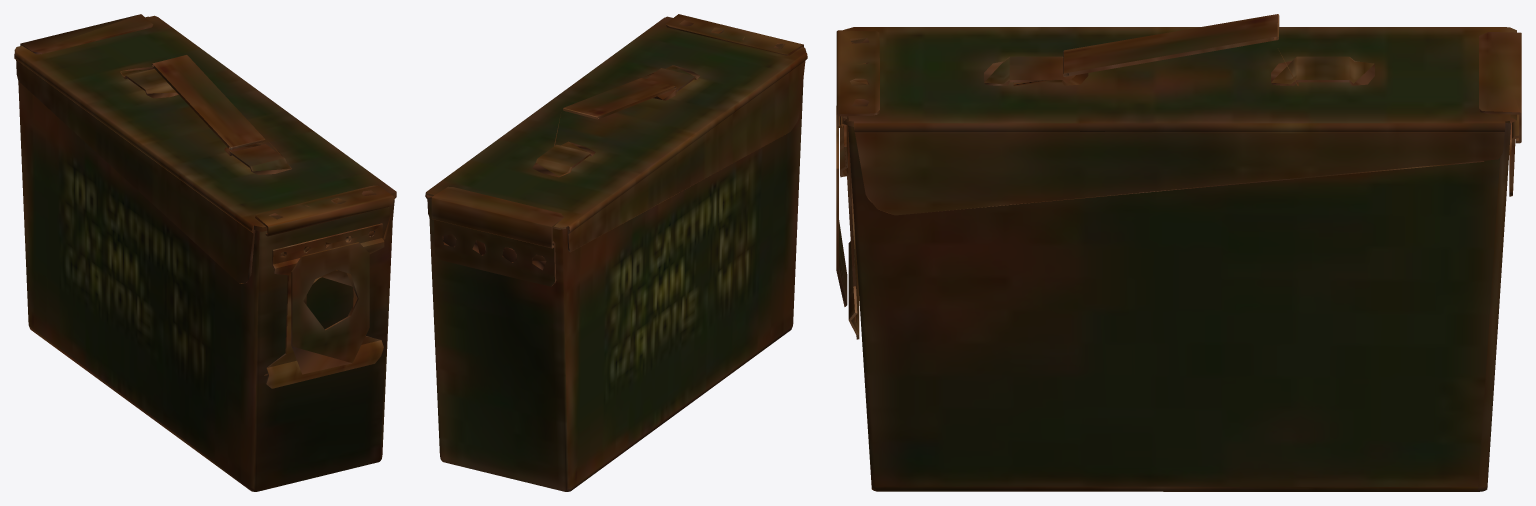
The model's file is munitions.glb.
The picture shows the model from 3 angles, left to right: view 1: azimuth 30°, elevation 25°; view 2: azimuth 150°, elevation 25°; view 3: azimuth 270°, elevation 25°; orthographic projection. The views are drawn at different scales.
Parts seen in each view (by area): view 1: ammo_box_handle_ring_b; view 2: ammo_box_handle_ring_b; view 3: ammo_box_handle_ring_b.
Part boxes in pixels (x1,y1,x2,y2): ammo_box_handle_ring_b: (14,14,396,491); ammo_box_handle_ring_b: (425,14,807,491); ammo_box_handle_ring_b: (836,14,1521,491).
Bounding box in the file's own units: 0.0865 × 0.1757 × 0.2578.
Materials: 1 (1 with a texture image).
